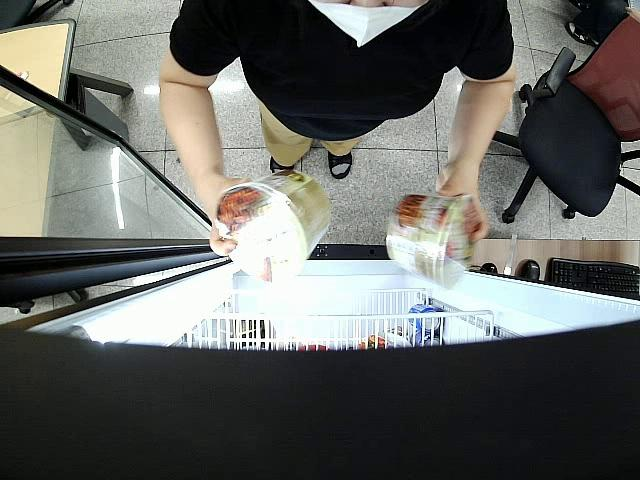00_hand: (436, 163, 492, 244), (208, 174, 253, 257)
03_chapagetti_L: (217, 171, 333, 285), (385, 195, 477, 288)
